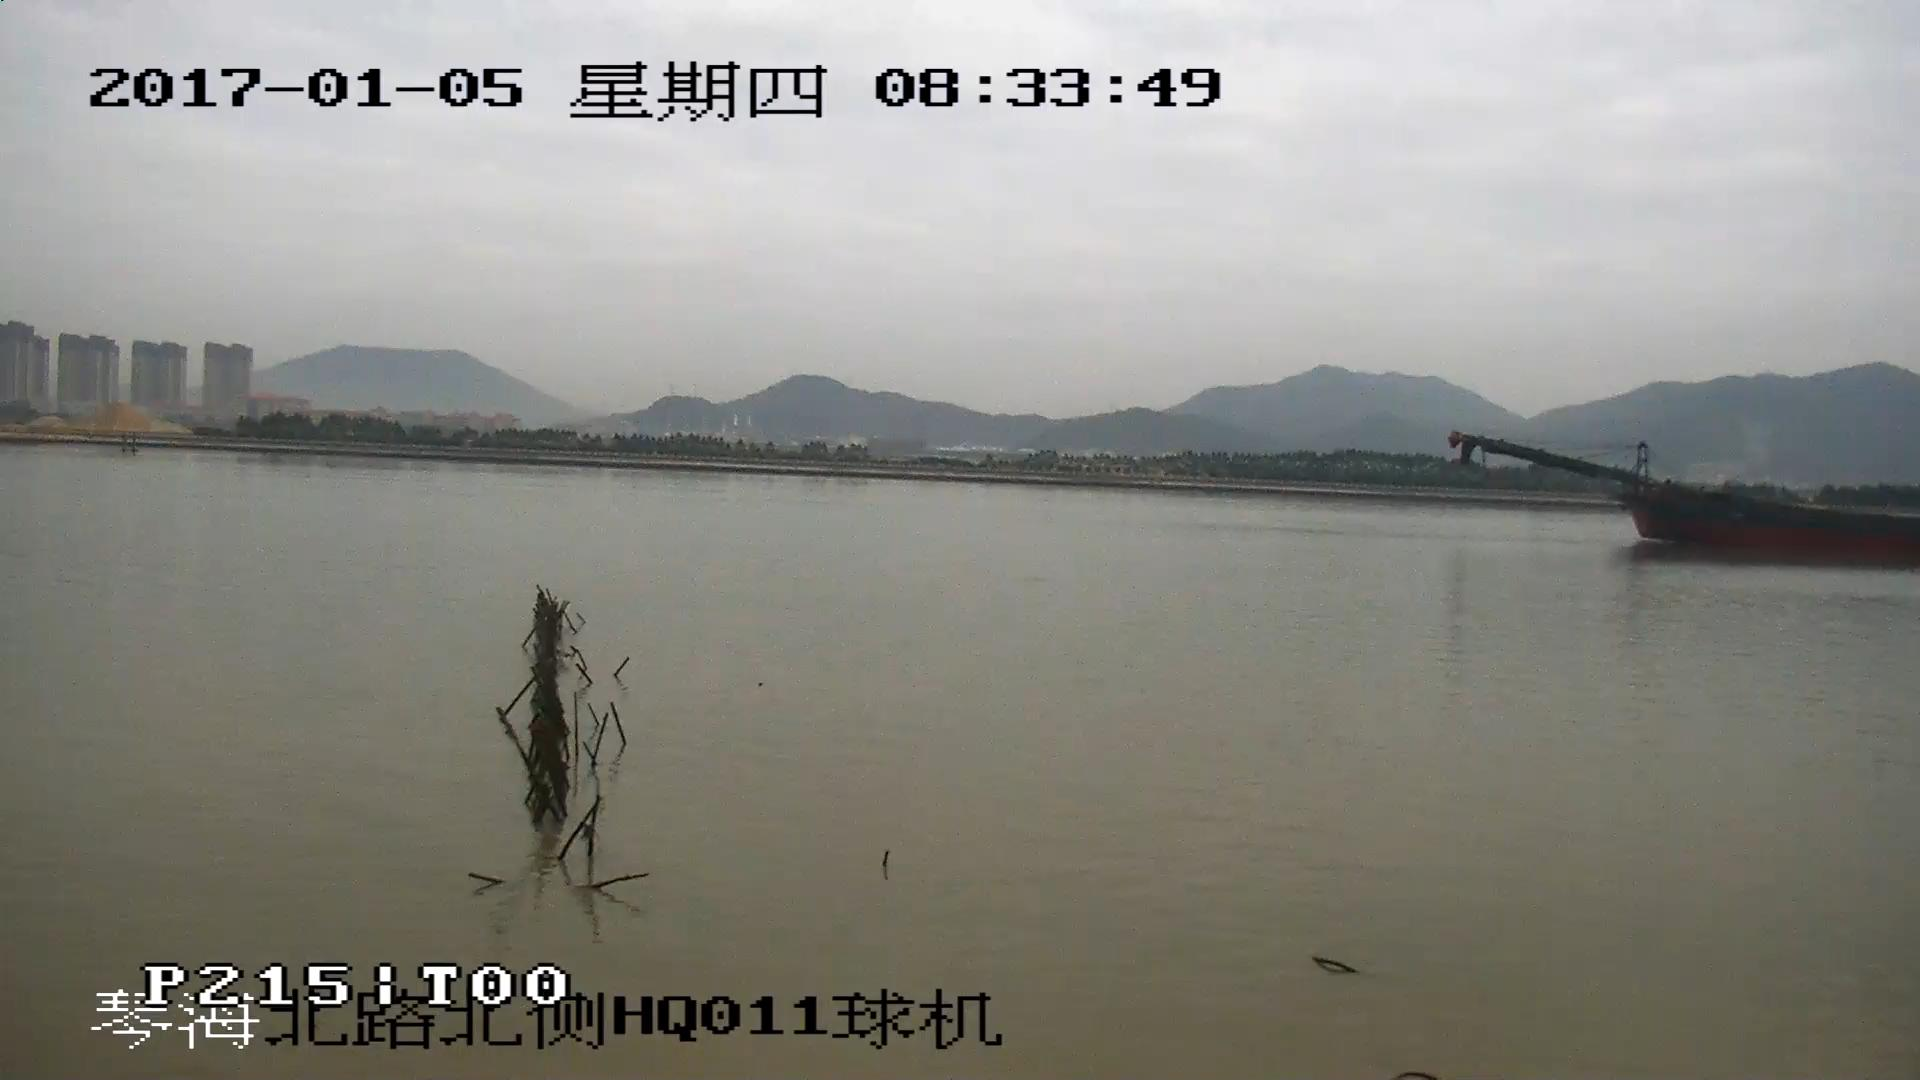bulk cargo carrier: (1457, 441, 1920, 561)
